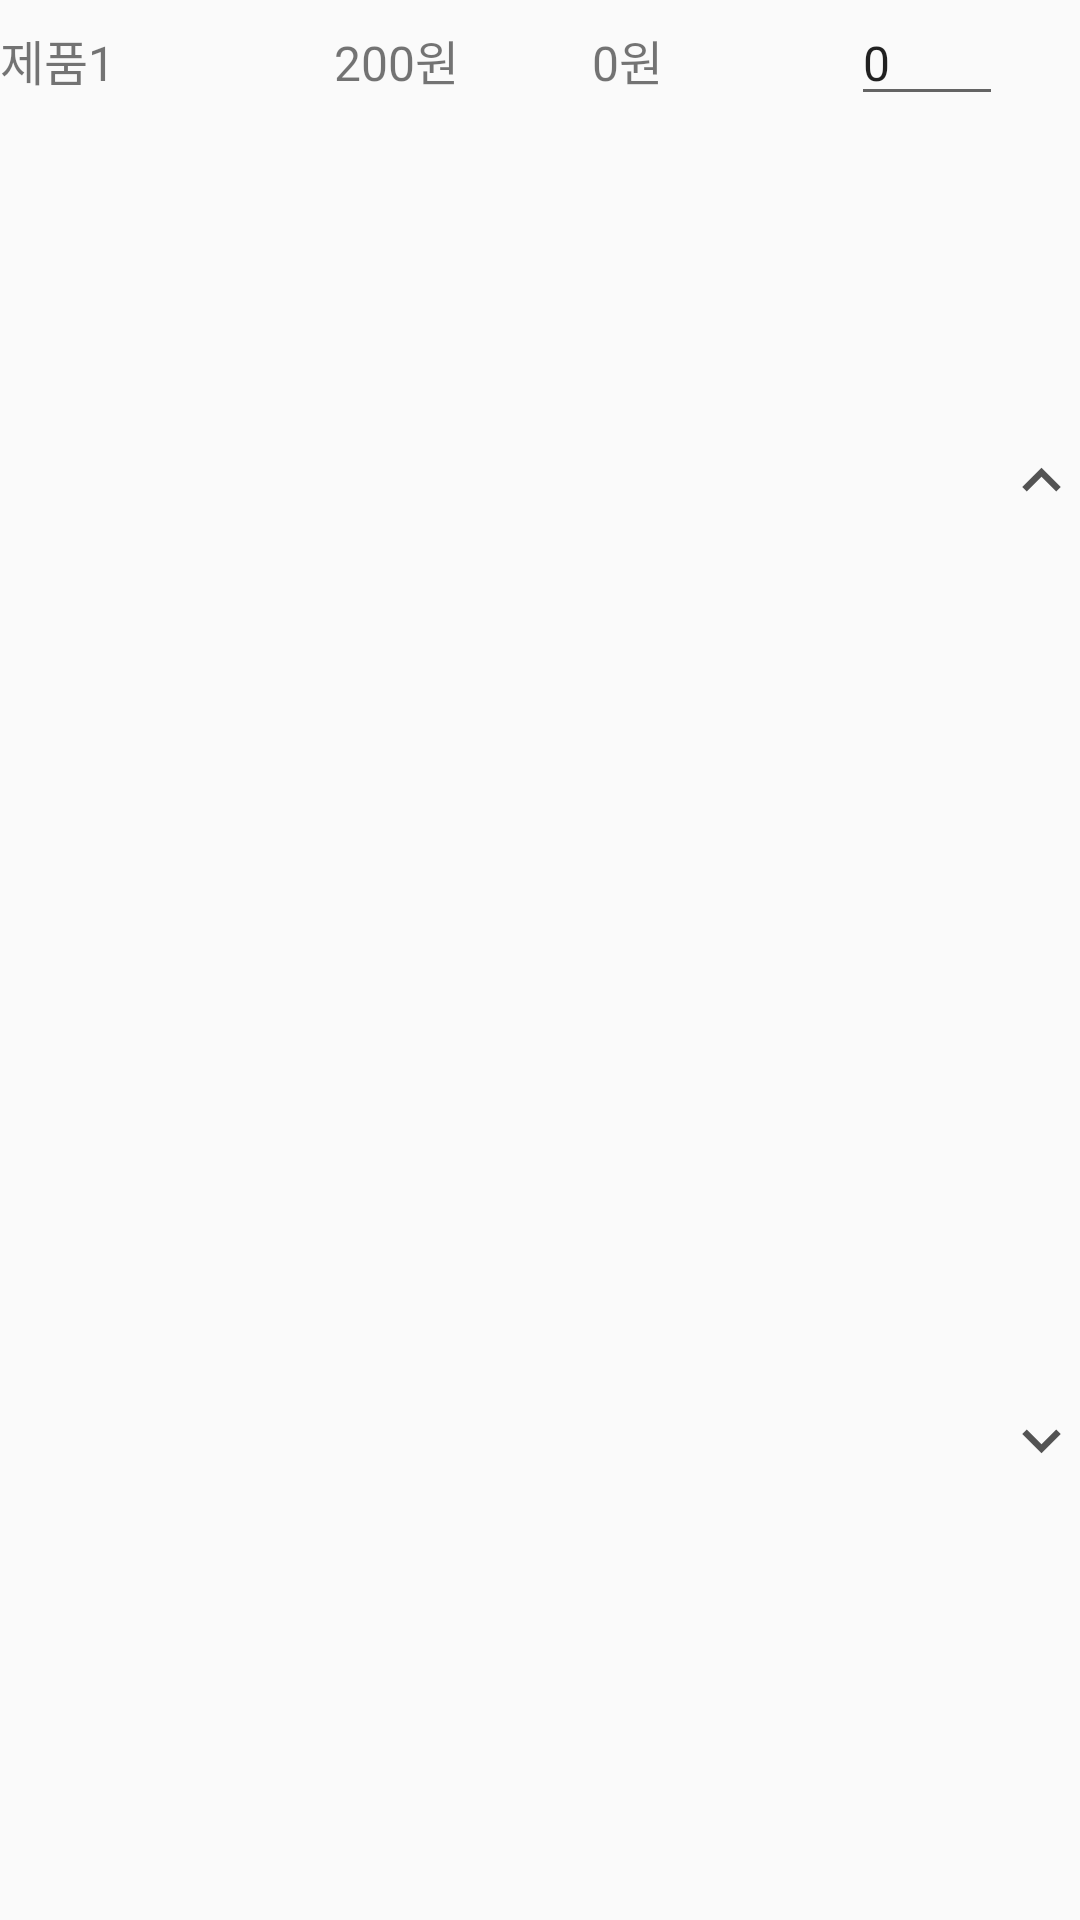

Screen size 1080*1920. Icon name, then its center in pixels as [x,y]:
down arrow: [1041,1441]
up arrow: [1041,480]
